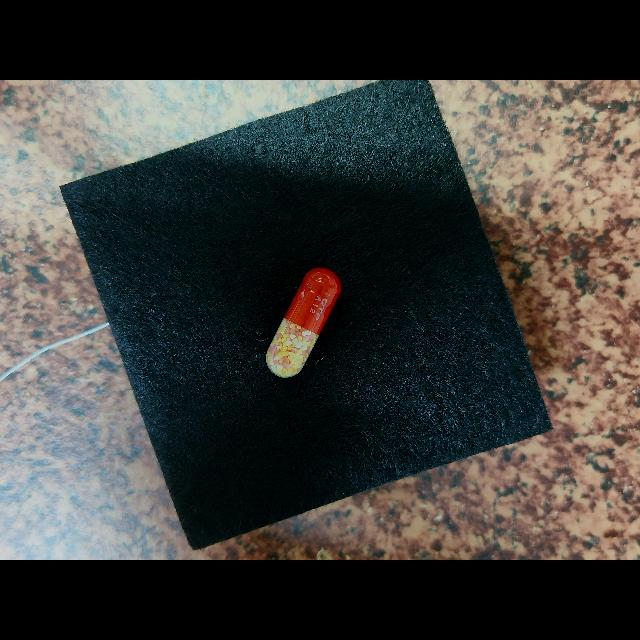Intact Capsule: (266, 268, 341, 378)
